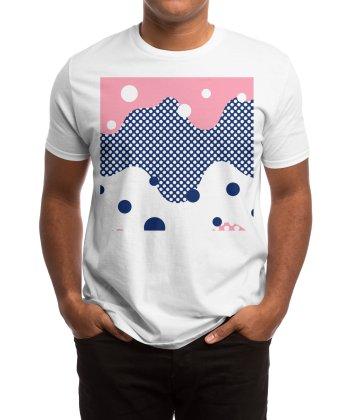design: (97, 75, 255, 233)
